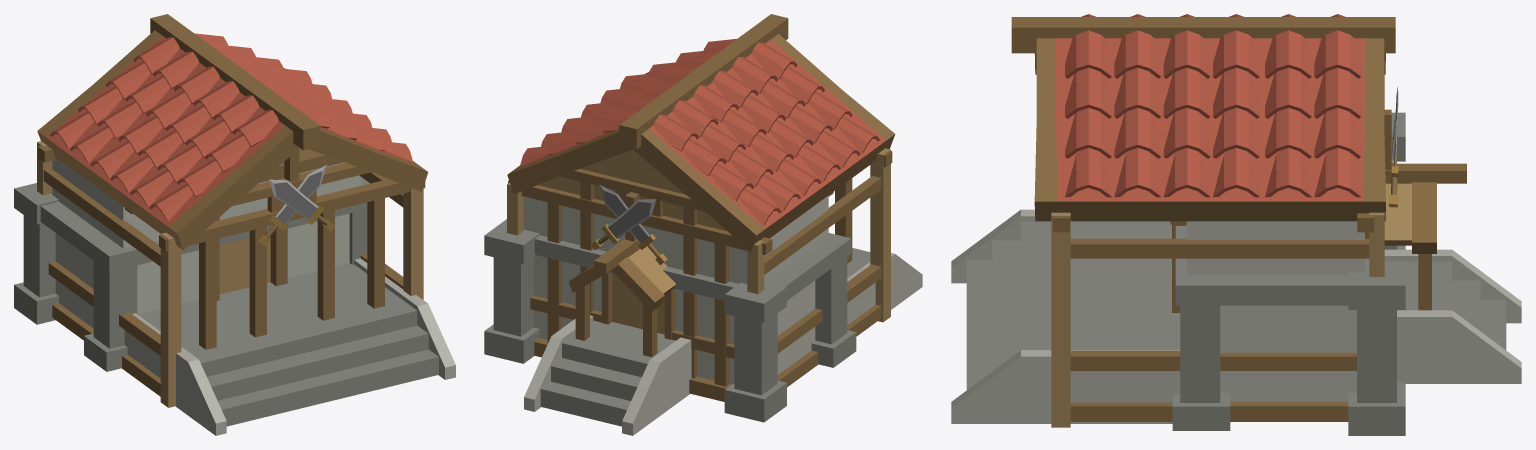
File: Barracks-lnyADheSvA.glb
3 views of the same model, side by side, from view 1: azimuth 30°, elevation 25°; view 2: azimuth 150°, elevation 25°; view 3: azimuth 270°, elevation 25° (orthographic). The views are drawn at different scales.
Visible parts, largest first — view 1: Barracks_SecondAge_Level1; view 2: Barracks_SecondAge_Level1; view 3: Barracks_SecondAge_Level1.
Part boxes in pixels (bbox=[...]): Barracks_SecondAge_Level1: bbox=[14, 14, 455, 435]; Barracks_SecondAge_Level1: bbox=[484, 14, 922, 435]; Barracks_SecondAge_Level1: bbox=[951, 14, 1521, 435].
Bounding box in the file's own units: 1.01 × 0.8931 × 1.41.
